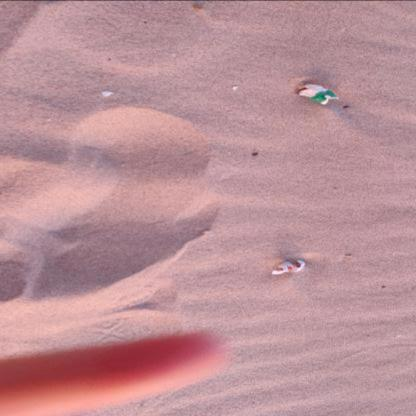Unlabeled litter: (297, 83, 338, 104), (272, 260, 306, 274)
